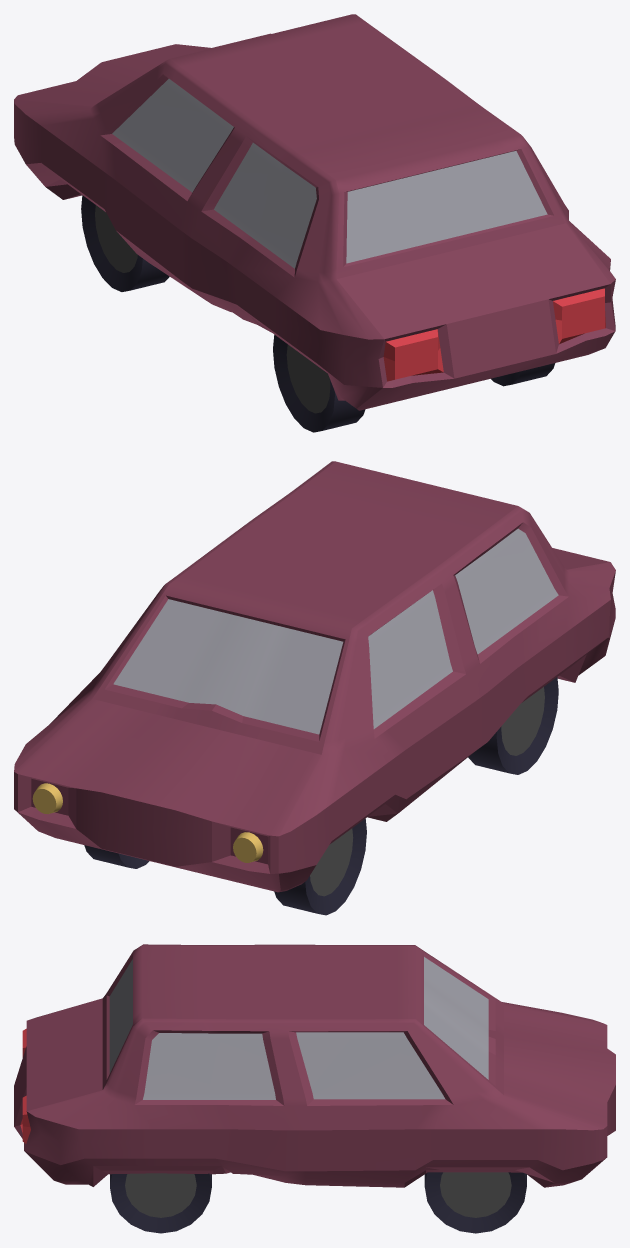
The model's file is CarRedd.fbx.
The picture shows the model from 3 angles, top to bottom: view 1: azimuth 30°, elevation 25°; view 2: azimuth 150°, elevation 25°; view 3: azimuth 270°, elevation 25°; orthographic projection. The views are drawn at different scales.
Visible parts, largest first — view 1: pCube2; view 2: pCube2; view 3: pCube2.
Boxes of the visible parts, left/top/right/bottom form: pCube2: left=14, top=14, right=615, bottom=432; pCube2: left=14, top=461, right=615, bottom=915; pCube2: left=14, top=944, right=615, bottom=1233.
Size of what is drawn, in the model's own units: 9.68 by 7.86 by 20.77.
